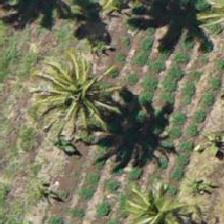coconut_tree: (29, 44, 119, 134), (113, 166, 203, 223)
